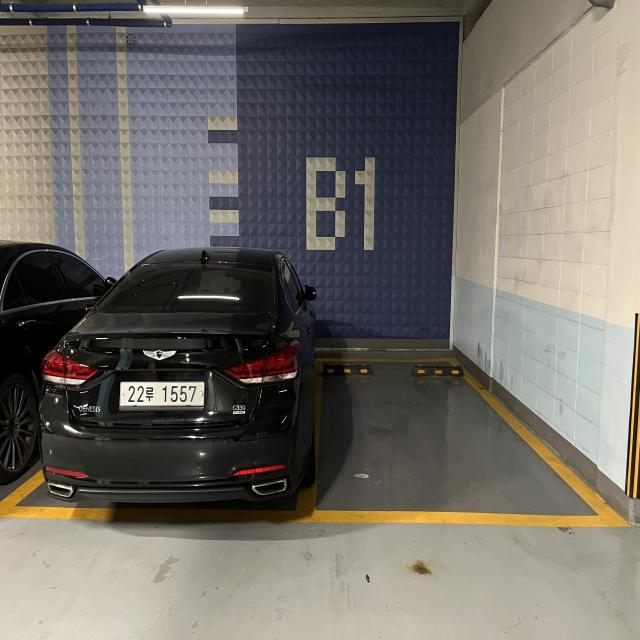empty: (308, 348, 620, 524)
occupied: (18, 213, 313, 544)
